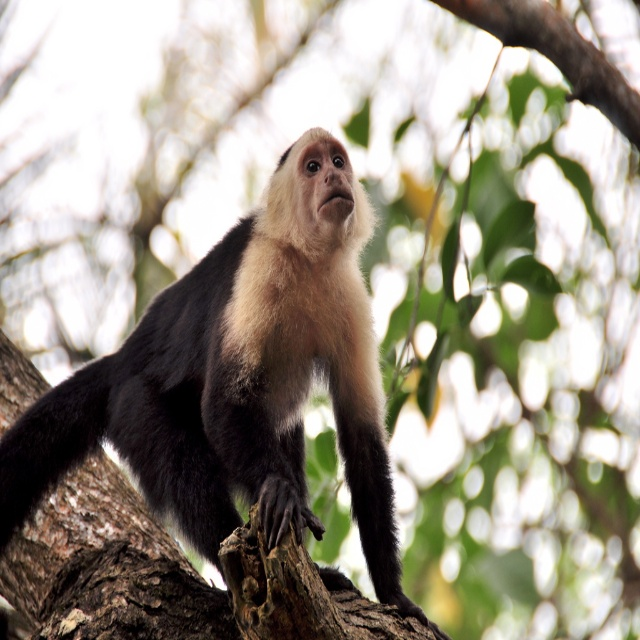Monkey: (0, 127, 452, 640)
